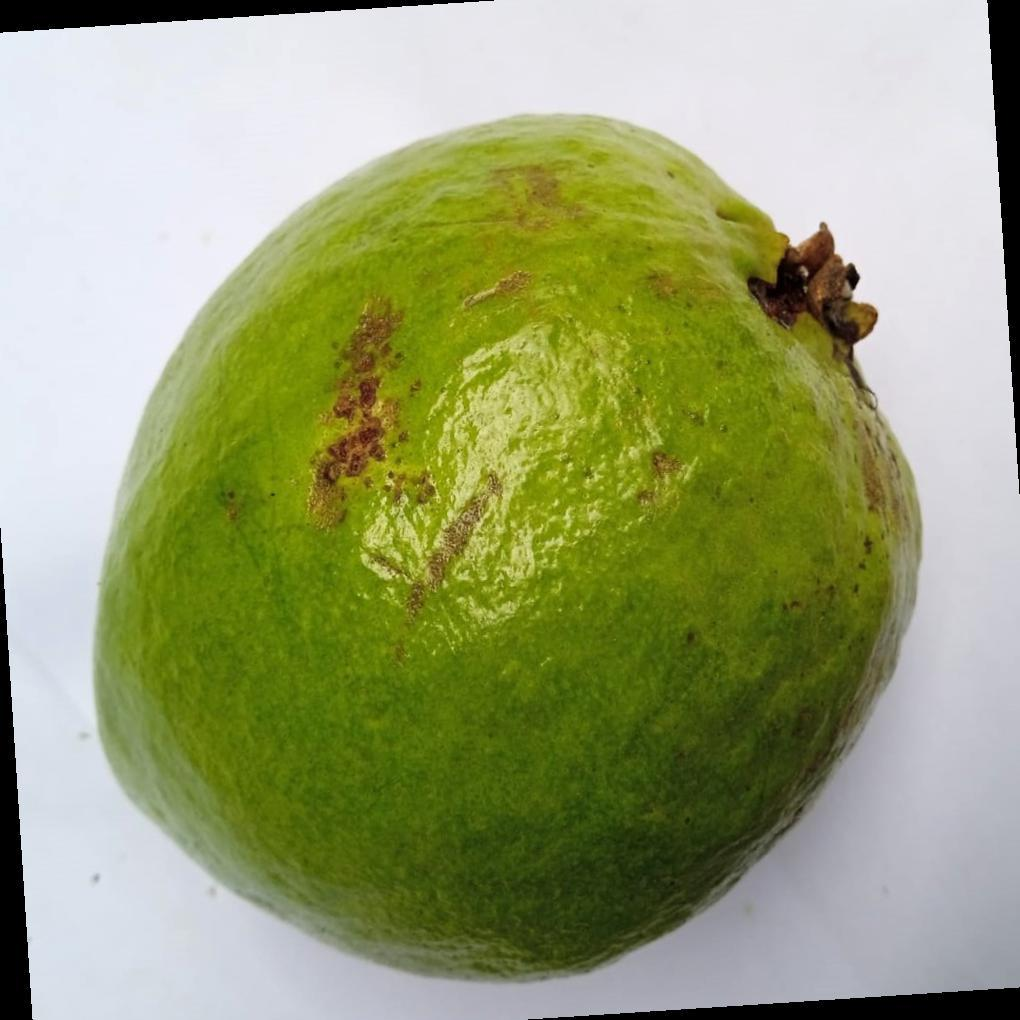FreshGuava: (88, 113, 923, 986)
